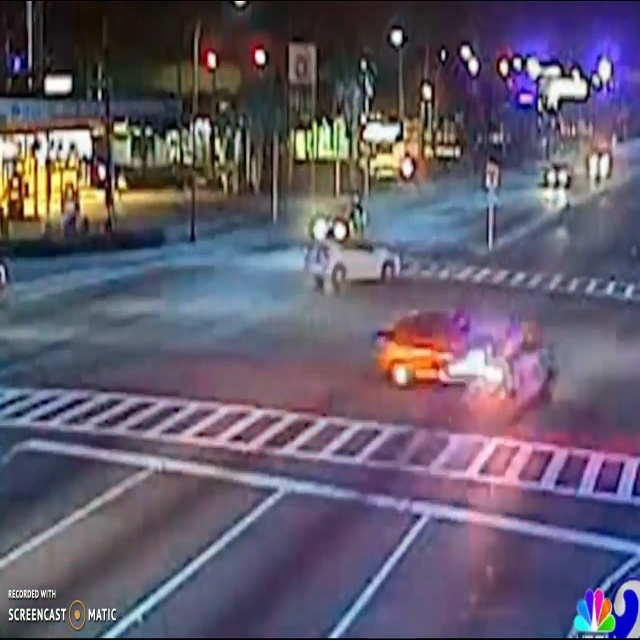acc: (370, 300, 561, 434)
